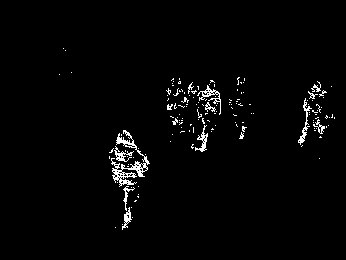person: (105, 126, 149, 232), (190, 79, 223, 151), (297, 81, 328, 148)
